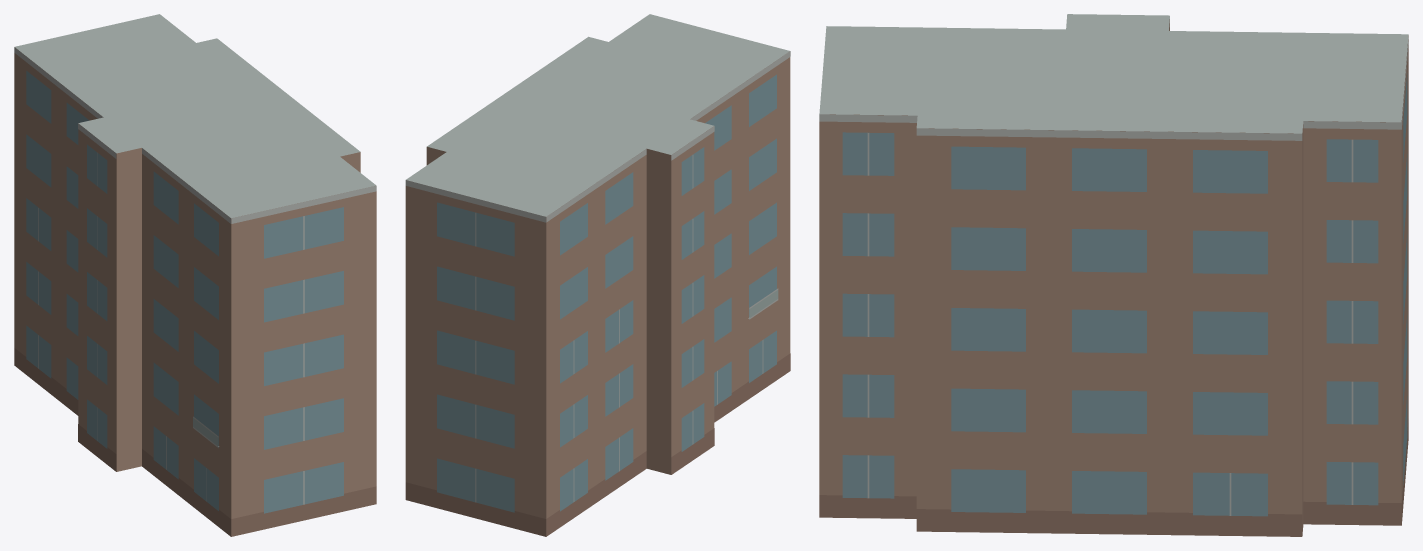
Rendered from survey-upis-32626480.glb.
3 views of the same model, side by side, from view 1: azimuth 30°, elevation 25°; view 2: azimuth 150°, elevation 25°; view 3: azimuth 270°, elevation 25° (orthographic). The views are drawn at different scales.
Visible parts, largest first — view 1: survey-upis-32626480.tmp; view 2: survey-upis-32626480.tmp; view 3: survey-upis-32626480.tmp.
Boxes of the visible parts, x1,y1,x2,y2 form: survey-upis-32626480.tmp: [14, 14, 376, 536]; survey-upis-32626480.tmp: [405, 14, 790, 536]; survey-upis-32626480.tmp: [819, 14, 1408, 536].
Bounding box in the file's own units: 8.53 × 13.4 × 17.75.
